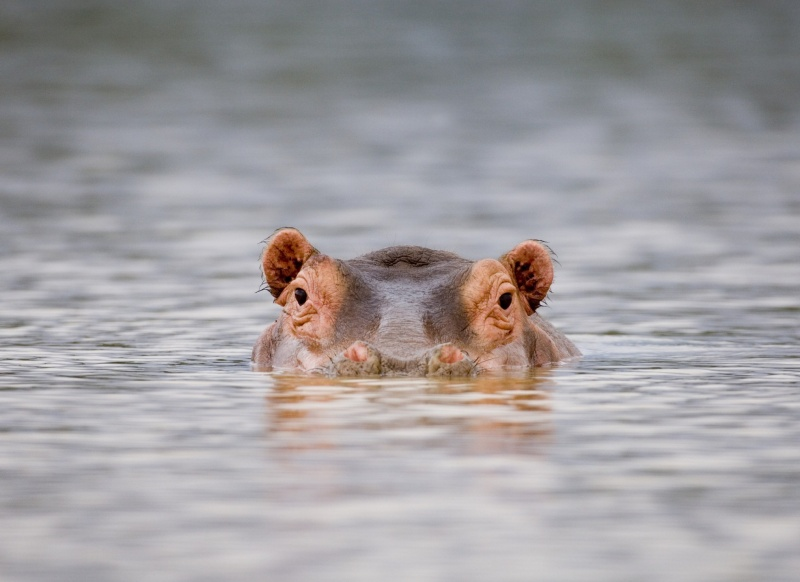hipopotamo: (246, 218, 593, 394)
